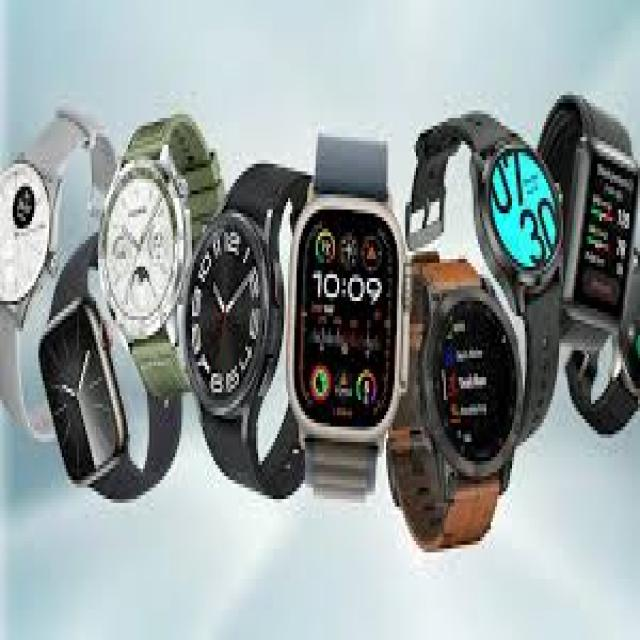objects: (281, 186, 410, 437), (90, 153, 200, 341), (178, 218, 282, 416), (422, 280, 526, 478), (464, 128, 567, 288), (564, 136, 640, 338), (0, 140, 55, 331)
